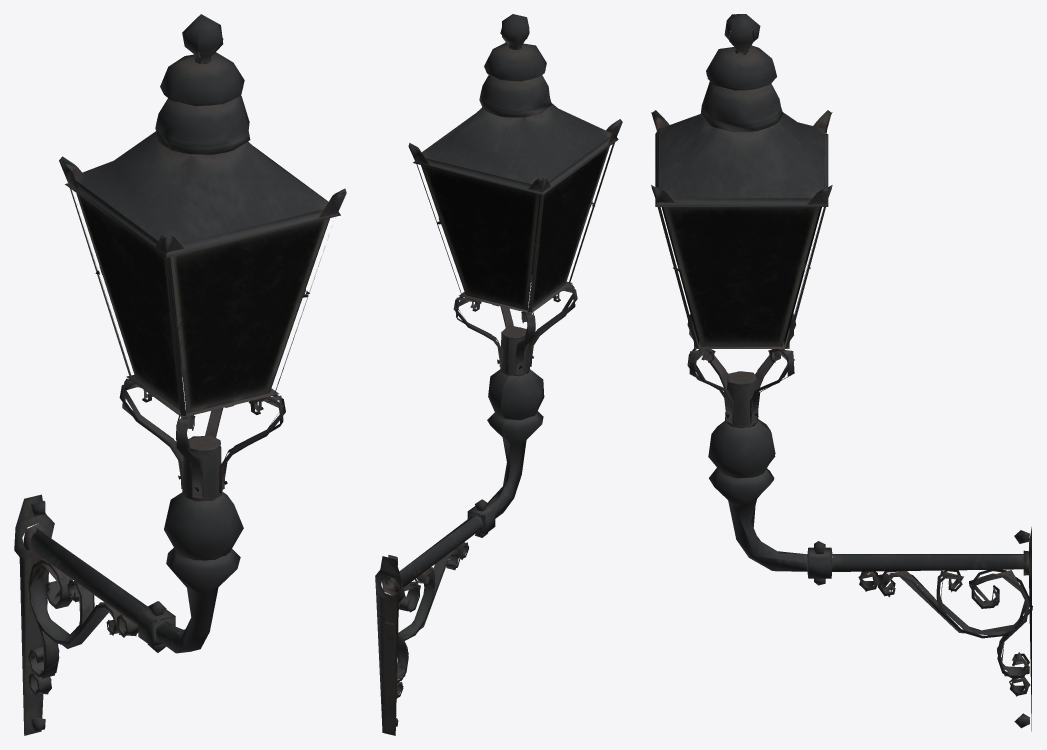
File: street_lamp_02_1k.gltf.lod.glb
3 views of the same model, side by side, from view 1: azimuth 30°, elevation 25°; view 2: azimuth 150°, elevation 25°; view 3: azimuth 270°, elevation 25° (orthographic). The views are drawn at different scales.
Visible parts, largest first — view 1: street_lamp_02; view 2: street_lamp_02; view 3: street_lamp_02.
Part boxes in pixels (x1,y1,x2,y2): street_lamp_02: (14,14,346,735); street_lamp_02: (375,14,622,735); street_lamp_02: (651,14,1032,731).
Size of the model in its own units: 0.3839 by 1.68 by 0.8073.
3 materials, 3 textured.
